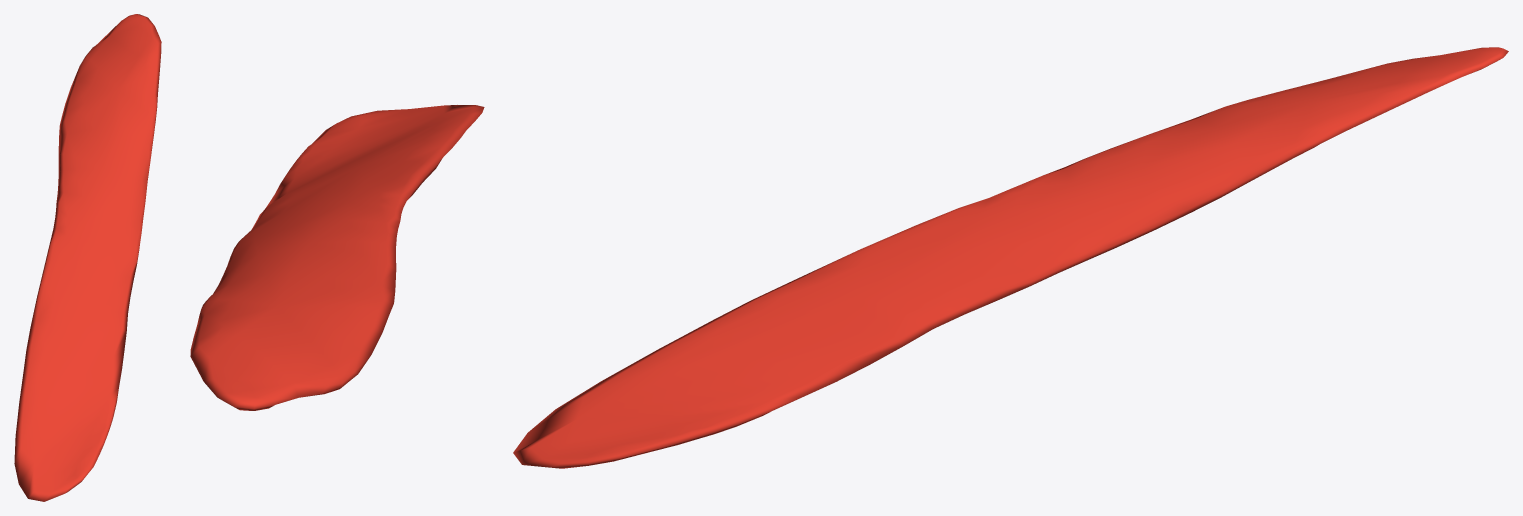
File: Subclavius_muscle-Clavicular_insertion.l_Cone.002.glb
The picture shows the model from 3 angles, left to right: view 1: azimuth 30°, elevation 25°; view 2: azimuth 210°, elevation 25°; view 3: azimuth 330°, elevation 25°; orthographic projection. The views are drawn at different scales.
Parts seen in each view (by area): view 1: Subclavius_muscle-Clavicular_insertion.l_Cone.002; view 2: Subclavius_muscle-Clavicular_insertion.l_Cone.002; view 3: Subclavius_muscle-Clavicular_insertion.l_Cone.002.
Boxes of the visible parts, left/top/right/bottom form: Subclavius_muscle-Clavicular_insertion.l_Cone.002: left=14, top=14, right=161, bottom=501; Subclavius_muscle-Clavicular_insertion.l_Cone.002: left=190, top=105, right=484, bottom=410; Subclavius_muscle-Clavicular_insertion.l_Cone.002: left=513, top=47, right=1508, bottom=468.
Size of the model in its own units: 0.0325 by 0.0129 by 0.0416.
